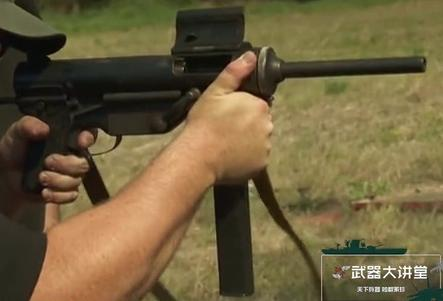gun: (1, 1, 443, 301)
